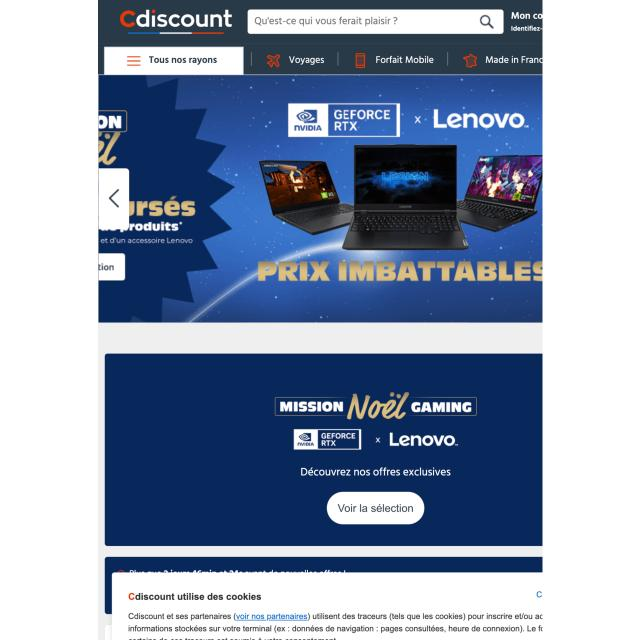CheckedTextView: (246, 8, 504, 36)
bag: (99, 1, 543, 75)
carousel: (261, 50, 283, 70), (477, 12, 498, 32), (462, 52, 478, 69), (355, 50, 367, 70)
data feed: (117, 5, 236, 38), (374, 53, 435, 67), (287, 53, 327, 66)
decoration: (103, 46, 543, 77), (126, 53, 143, 68)
footer: (253, 12, 399, 30)
